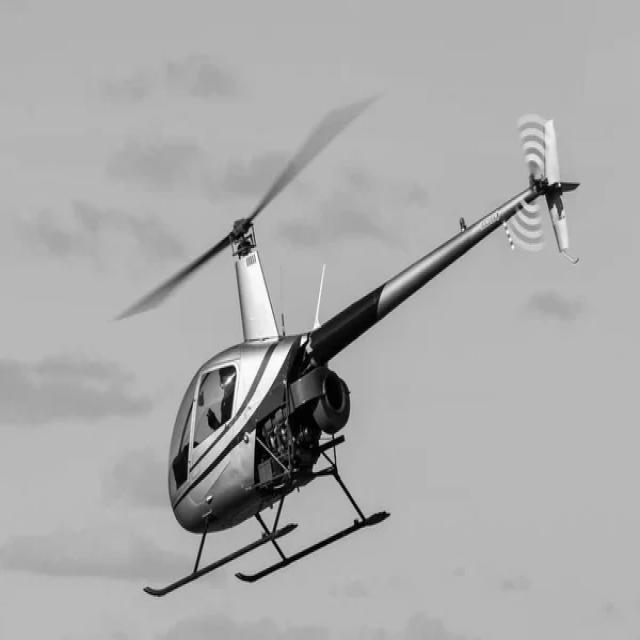Helicopter: (119, 102, 580, 598)
